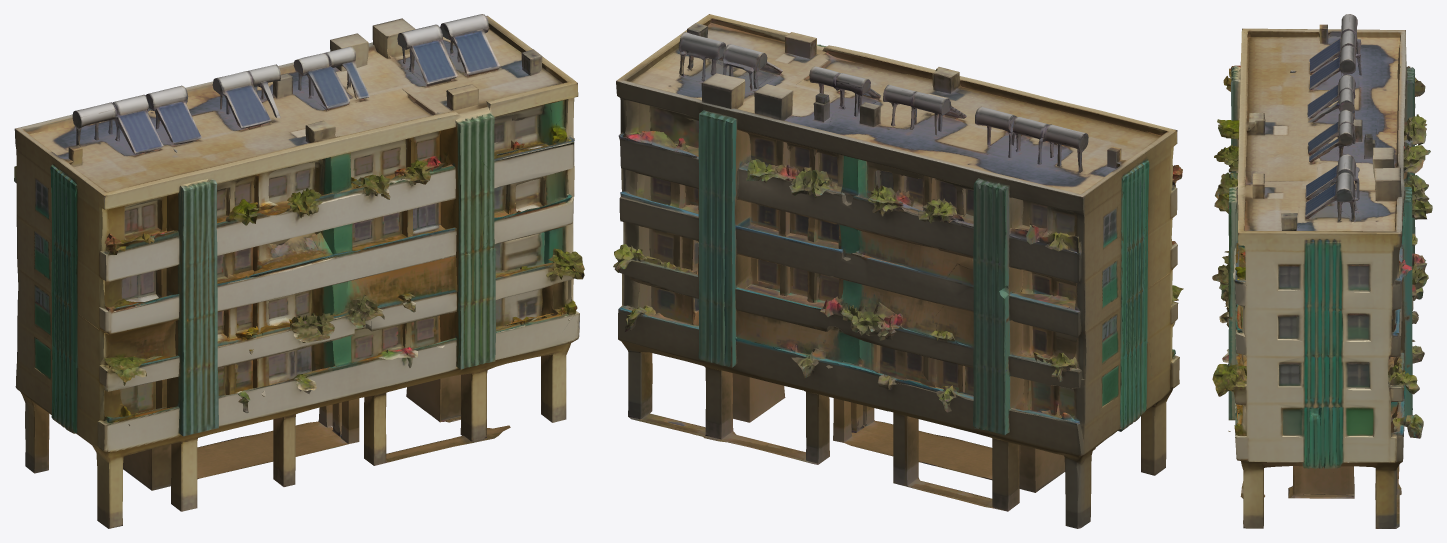
The model's file is bld_white_block_5070.glb.
3 views of the same model, side by side, from view 1: azimuth 30°, elevation 25°; view 2: azimuth 150°, elevation 25°; view 3: azimuth 270°, elevation 25° (orthographic). The views are drawn at different scales.
Visible parts, largest first — view 1: geometry_0; view 2: geometry_0; view 3: geometry_0.
Part boxes in pixels (x1=…): geometry_0: x1=14, y1=14, x2=584, y2=528; geometry_0: x1=613, y1=14, x2=1183, y2=528; geometry_0: x1=1212, y1=14, x2=1432, y2=528.
Size of the model in its own units: 30 by 22.37 by 13.59.
1 material, 1 textured.
